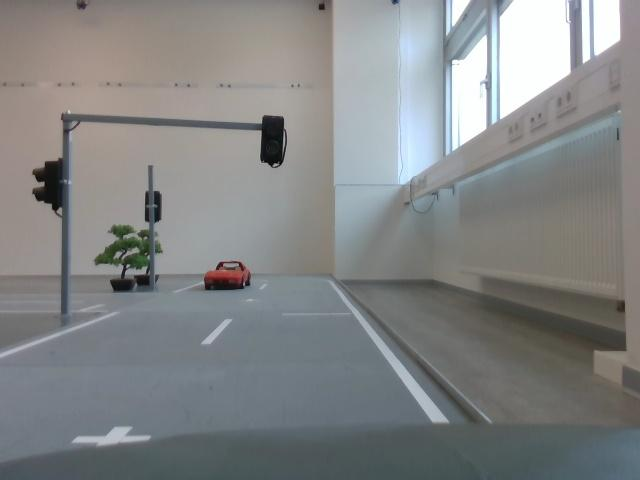traffic light: (33, 159, 74, 212), (258, 113, 289, 174)
